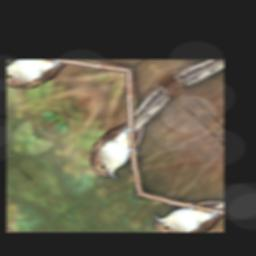Cuckoo: (70, 85, 199, 186)
